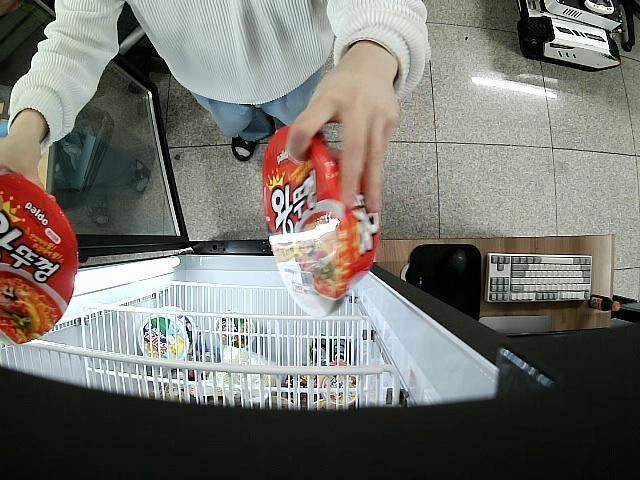10_wangTtukkeong: (263, 128, 378, 318), (0, 174, 81, 344)
